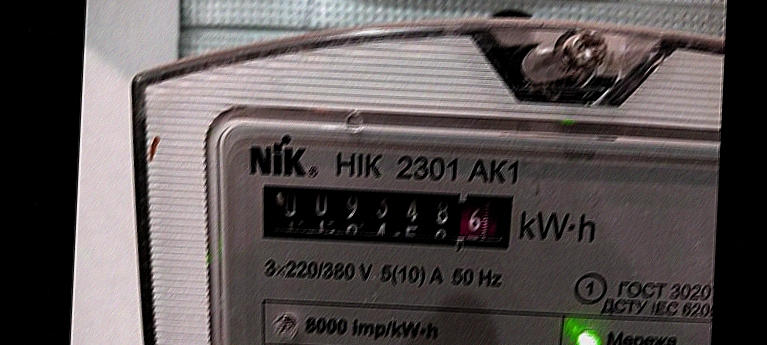0: (312, 190, 328, 214), (282, 188, 296, 215)
3: (373, 192, 388, 218)
4: (403, 193, 418, 221)
6: (465, 203, 483, 231)
8: (433, 195, 449, 224)
9: (342, 191, 358, 218)
screen: (250, 175, 522, 256)
